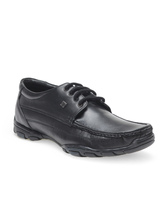shoes: (12, 73, 157, 161)
